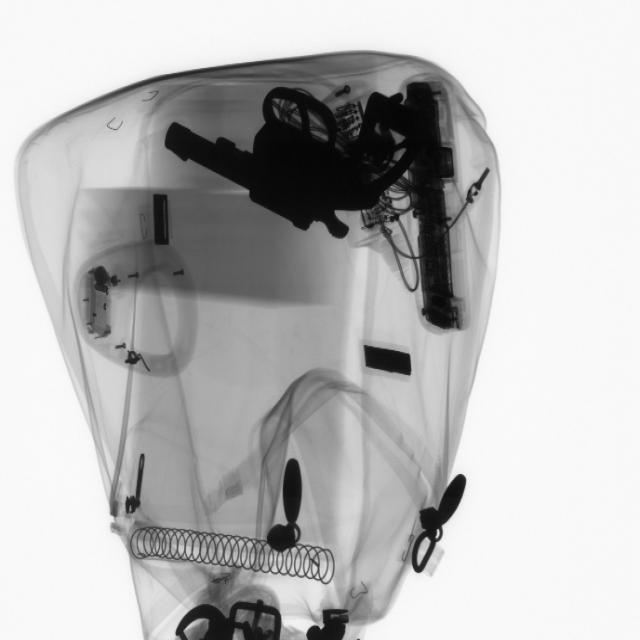GUN: (161, 87, 426, 244)
